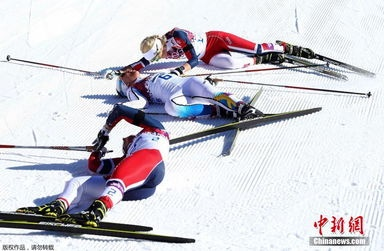fall: (104, 59, 280, 137)
